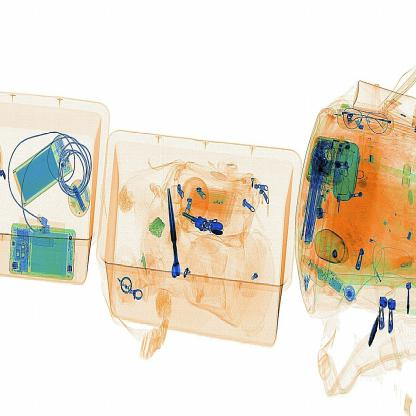gun: (158, 180, 190, 291)
